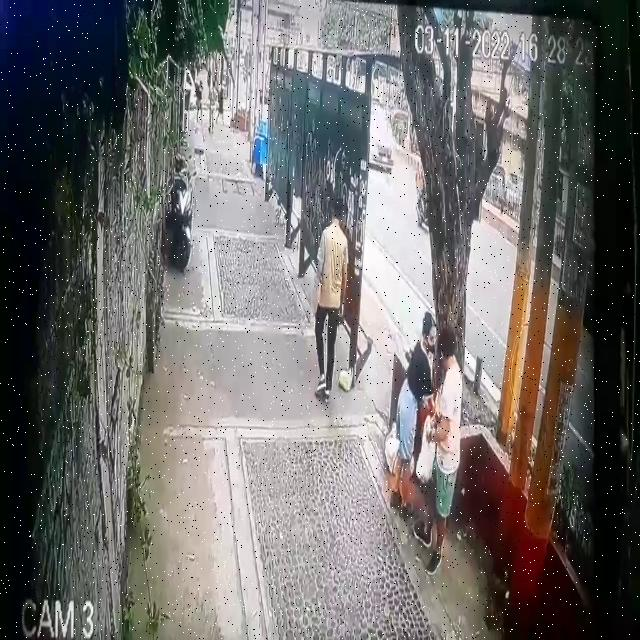garbage_dumping: (414, 400, 437, 495), (384, 408, 402, 474)
